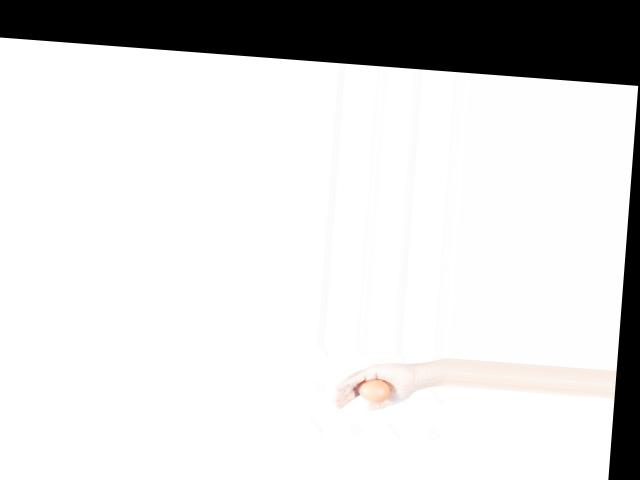egg: (358, 378, 390, 403)
